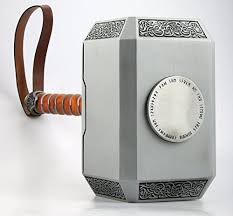THOR Hammer: (24, 17, 221, 202)
